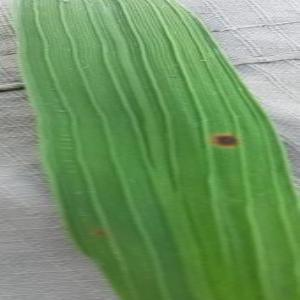Brown_Spot: (201, 124, 245, 155), (88, 224, 110, 241)
